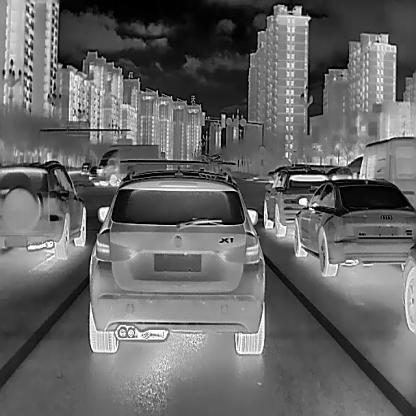car: (86, 164, 265, 355), (290, 176, 416, 277), (1, 158, 87, 259), (262, 166, 330, 238), (357, 133, 416, 208), (95, 142, 159, 189), (80, 161, 90, 175)
